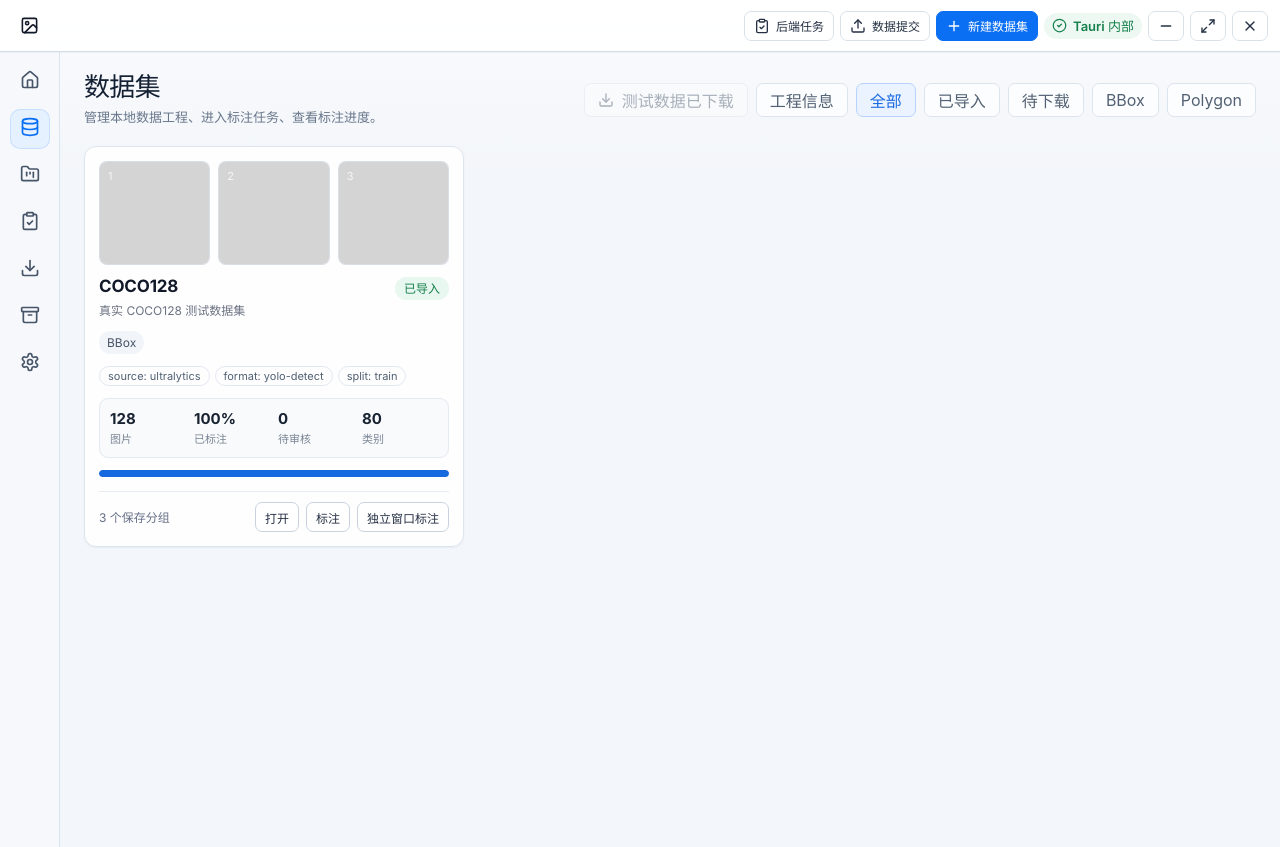
desktop shell › 数据提交弹窗可以打开本机 LabelImg VOC 目录
This screenshot has width=1280, height=847.
Click the button "数据提交": (885, 26) [840,10,930,40]
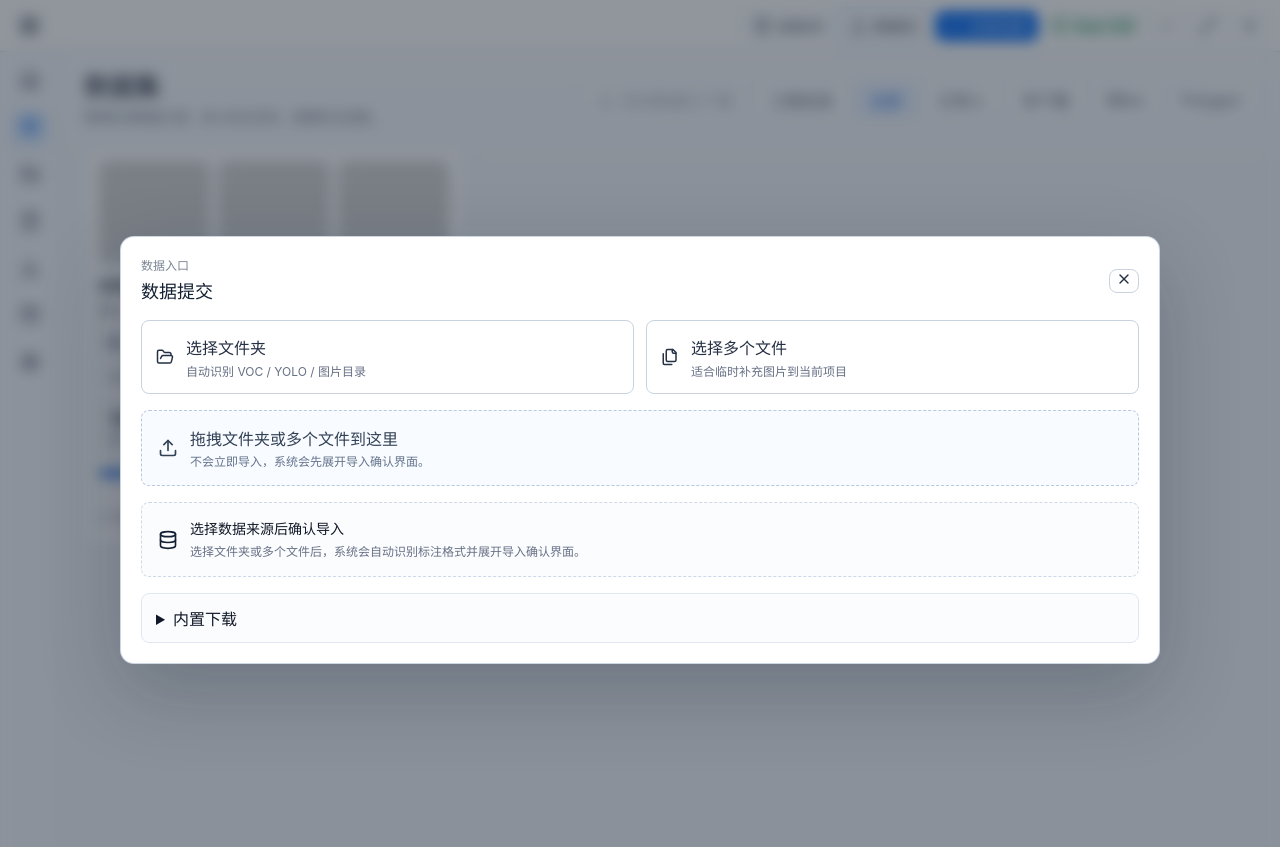
Click the button "选择文件夹 自动识别 VOC / YOLO / 图片目录": (226, 348) [141,320,634,394]
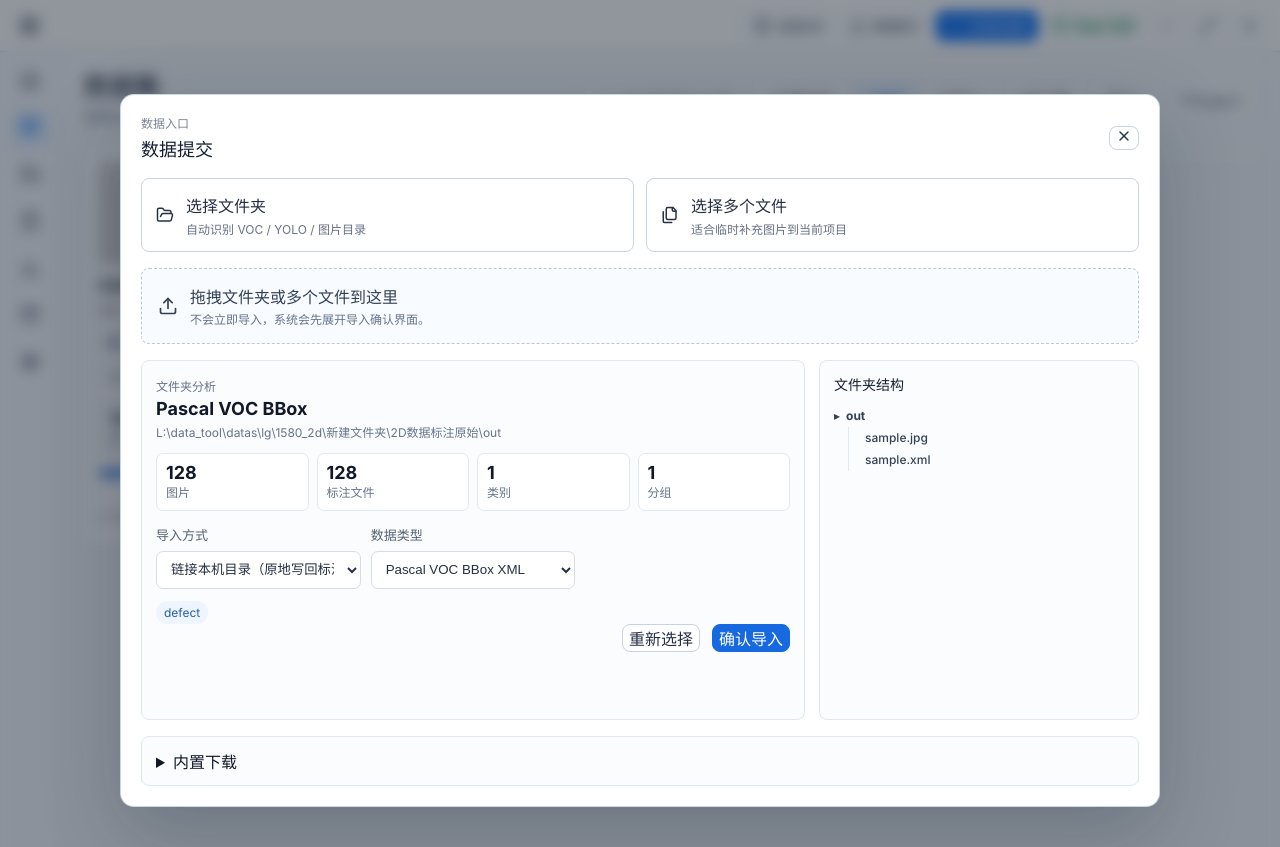
Check: the heading "Pascal VOC BBox" is shown, box [156,398,307,420]
Check: the element "文件夹结构" is shown, box [819,360,1139,720]
Check: the text "sample.xml" is shown, box [865,452,930,467]
Click the button "确认导入": (751, 638) [712,624,790,652]
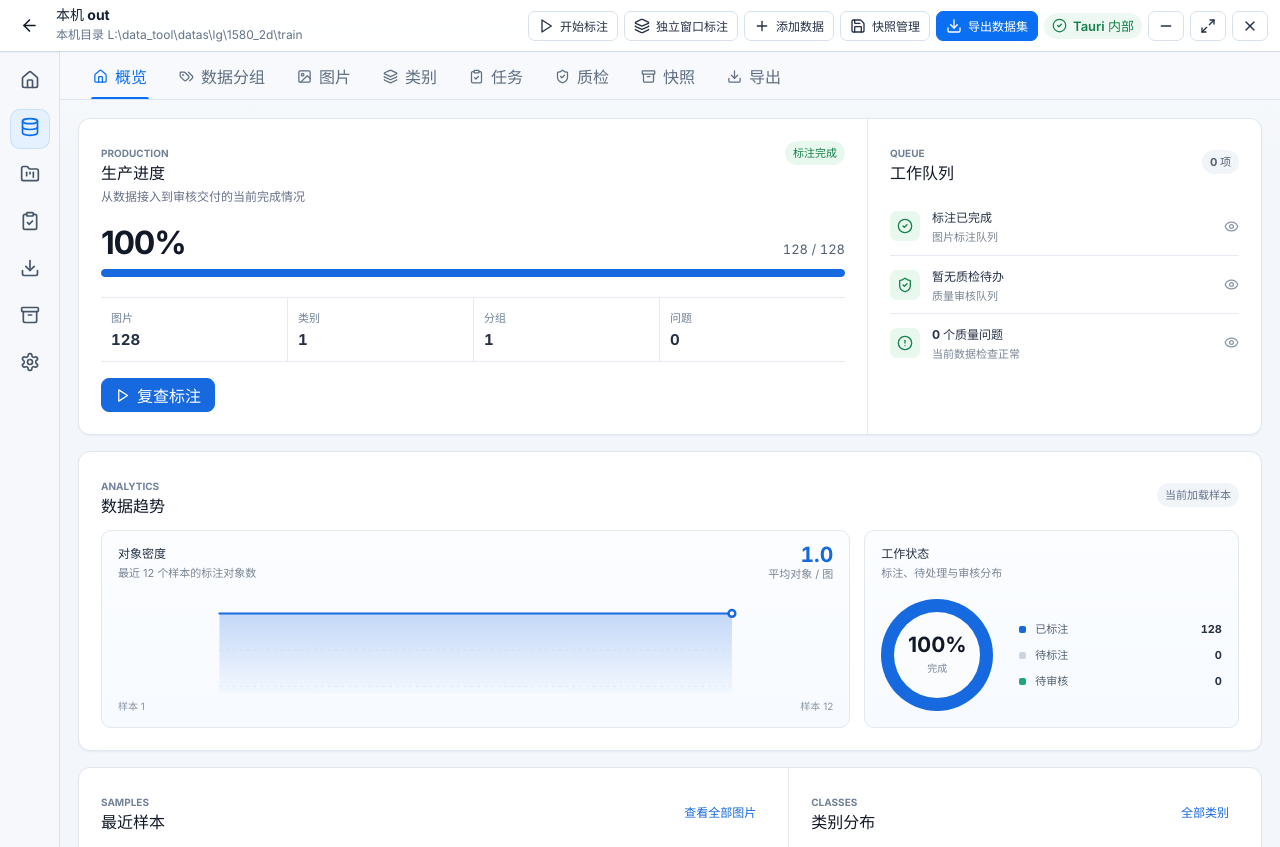
Check: the text "本机 out" is shown, box [56,7,110,24]
